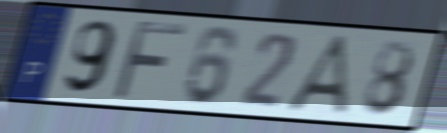2: (236, 31, 297, 111)
6: (181, 23, 239, 108)
8: (360, 38, 417, 118)
9: (61, 18, 118, 97)
A: (282, 33, 354, 119)
F: (109, 17, 190, 102)
